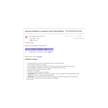

The page's visual inventory and layout, read from the dashboard file:
{"tool":"powerbi","page":{"name":"Page 1","canvas":[1280,720],"ordinal":0},"visuals":[{"type":"group","id":"g1","title":"Group 2","box":[321.7,0,943.3,249.2],"z":0},{"type":"cardVisual","fields":{"Data":["Course.Total Courses"]},"box":[321.9,0,237.7,124.9],"z":0,"group":"g1"},{"type":"slicer","fields":{"Values":["Trainer.TrainerName"]},"box":[34.3,174.2,279.7,150],"z":0,"group":"g2"},{"type":"cardVisual","fields":{"Data":["Course.Total Mocks"]},"box":[549.9,0,238.4,124.9],"z":1000,"group":"g1"},{"type":"textbox","box":[25.4,36.9,296.2,50.9],"z":1000},{"type":"slicer","fields":{"Values":["Course.CourseName"]},"box":[34.3,339.5,279.7,255.5],"z":1000,"group":"g2"},{"type":"cardVisual","fields":{"Data":["Course.Trainer-Course Validated"]},"box":[788.3,0,238.4,124.9],"z":2000,"group":"g1"},{"type":"group","id":"g2","title":"Group 1","box":[34.3,174.2,279.7,507.3],"z":2000},{"type":"slicer","fields":{"Values":["TrainerCourseMapping.MappingStatus"]},"box":[34.3,610.3,279.7,71.2],"z":2000,"group":"g2"},{"type":"cardVisual","fields":{"Data":["Course.Avg Mocks per Trainer-Course"]},"box":[1026.7,0,238.4,124.9],"z":3000,"group":"g1"},{"type":"pivotTable","fields":{"Rows":["Trainer.TrainerName","Course.CourseName"],"Values":["Course.Total Mocks","Course.Latest Activity Type","Course.Latest Mock Summary"]},"box":[338.2,249.2,942.1,443.7],"z":3000},{"type":"cardVisual","fields":{"Data":["Course.Latest Mock Rating"]},"box":[321.7,124.6,943.3,124.6],"z":4000,"group":"g1"}]}

Visuals, with their boxes on the page's 1280x720 design canvas (x1, y1, x2, y2). These are canvas units, not pixel positions in the 108x108 screenshot, which may show the page scaled, cropped or inside an application window:
"Group 2" group: l=322, t=0, r=1265, b=249
cardVisual - Course.Total Courses: l=322, t=0, r=560, b=125
slicer - Trainer.TrainerName: l=34, t=174, r=314, b=324
cardVisual - Course.Total Mocks: l=550, t=0, r=788, b=125
textbox: l=25, t=37, r=322, b=88
slicer - Course.CourseName: l=34, t=340, r=314, b=595
cardVisual - Course.Trainer-Course Validated: l=788, t=0, r=1027, b=125
"Group 1" group: l=34, t=174, r=314, b=682
slicer - TrainerCourseMapping.MappingStatus: l=34, t=610, r=314, b=682
cardVisual - Course.Avg Mocks per Trainer-Course: l=1027, t=0, r=1265, b=125
pivotTable - Trainer.TrainerName x Course.CourseName: l=338, t=249, r=1280, b=693
cardVisual - Course.Latest Mock Rating: l=322, t=125, r=1265, b=249
